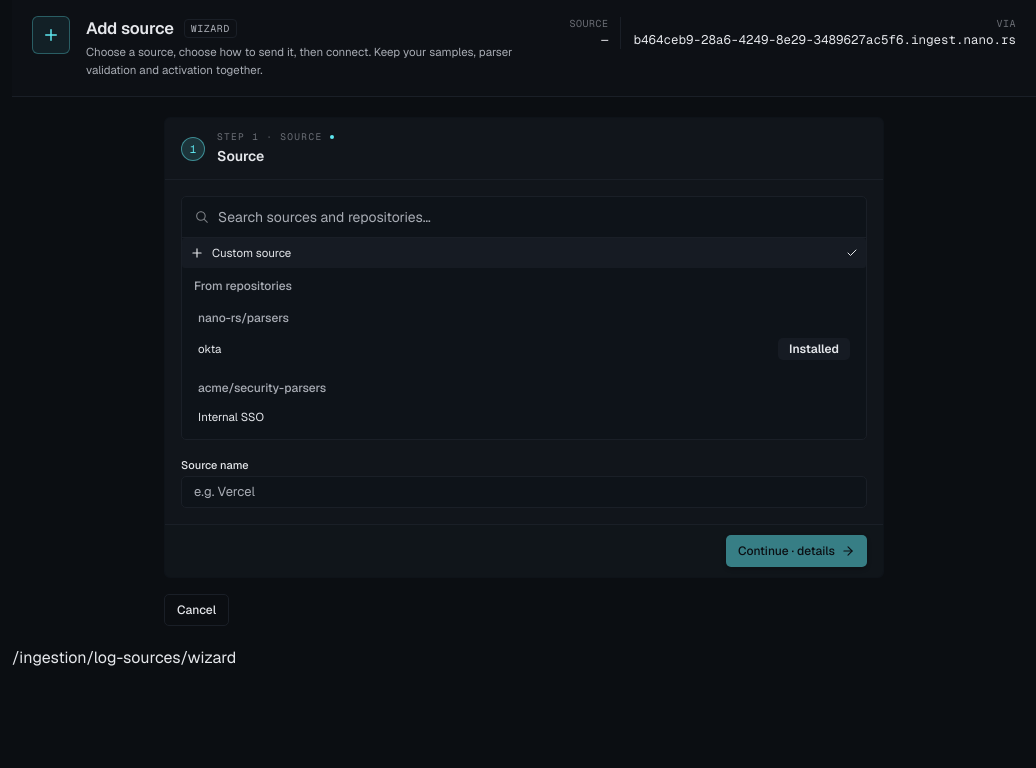
AddFeed → Add data (NAN-2593) › shows Installed for active repository types and searches by repository name
Check: the option "okta Installed" is shown, box [190,332,858,366]
Check: the text "acme/security-parsers" is shown, box [198,380,326,396]
Type "acme/security-parsers" into the dropdown named "Search supported sources". click: (536, 217)
box: [218,197,854,237]
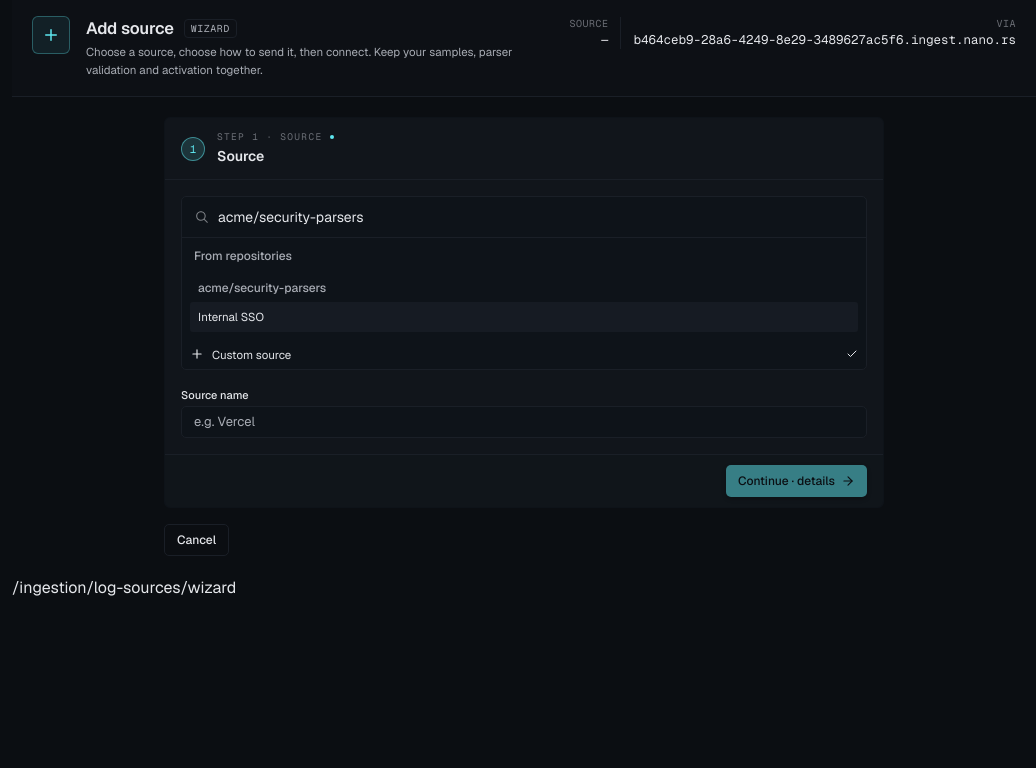
Check: the option "Internal SSO" is shown, box [190,302,858,332]
Check: the option "okta Installed" is gone
